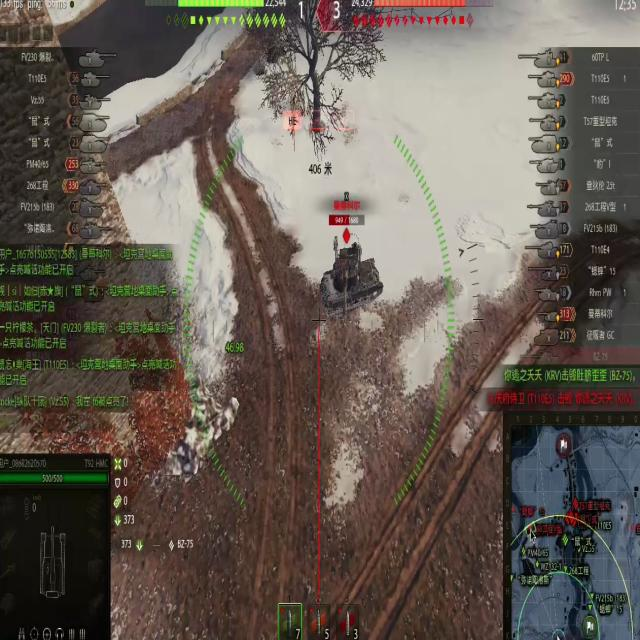tank: (313, 199, 397, 323)
